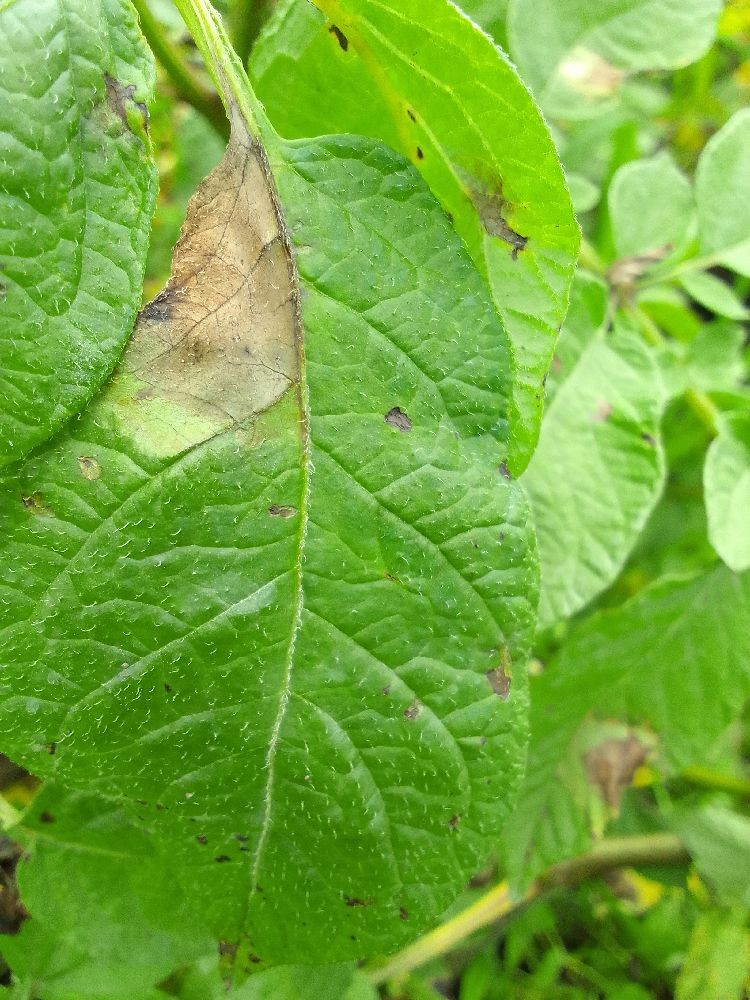late_blight: (120, 119, 321, 407), (468, 825, 711, 961), (578, 727, 655, 815), (0, 824, 41, 944)
